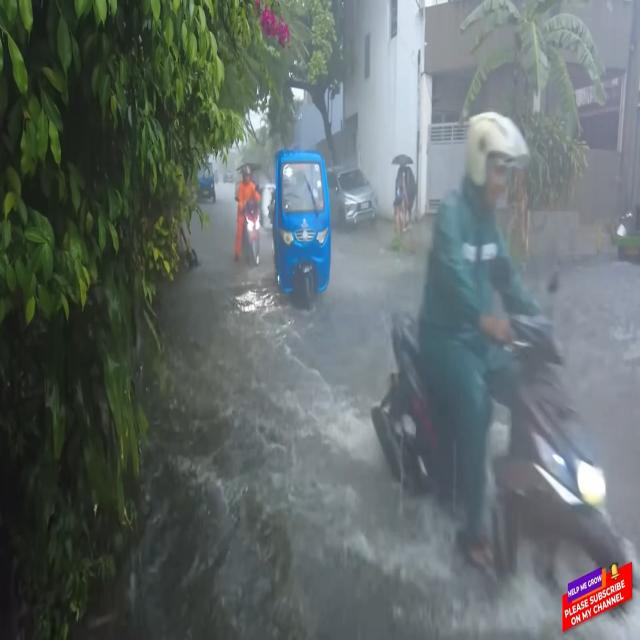half: (457, 104, 536, 231)
